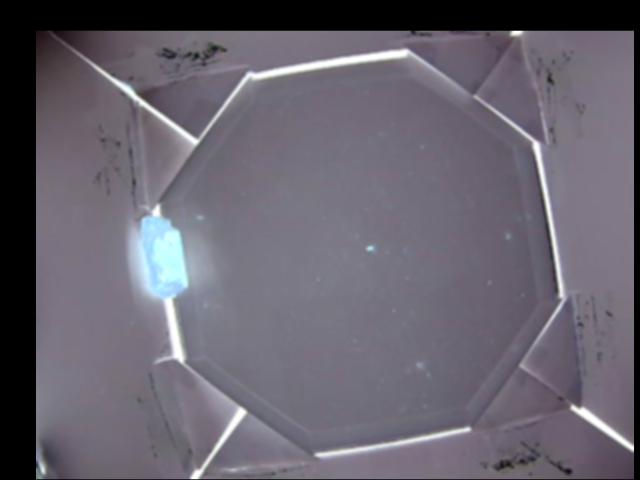Brisk: (139, 215, 191, 300)
